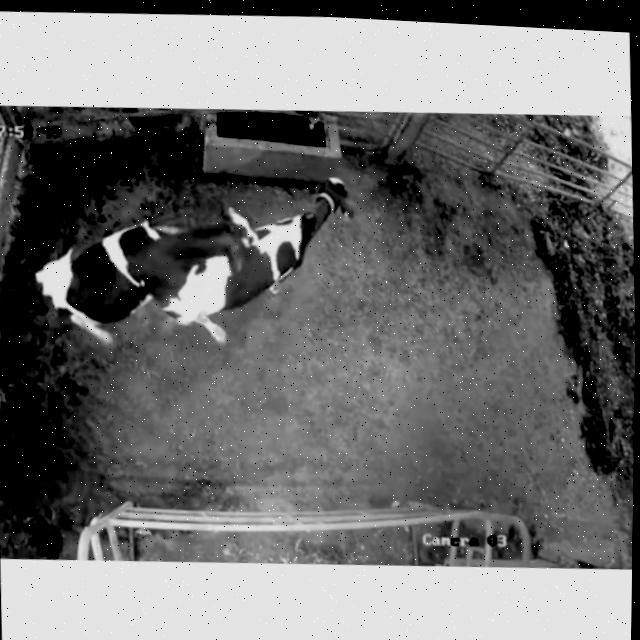ride: (11, 191, 259, 363)
